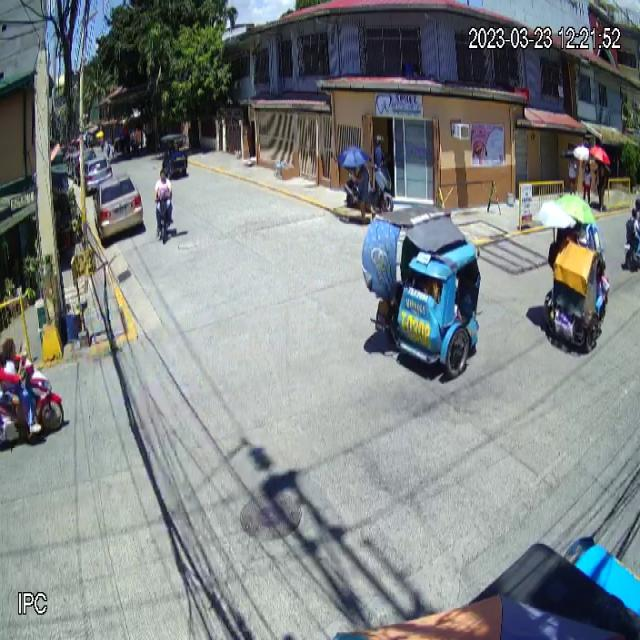Tricycle: (362, 205, 483, 378)
